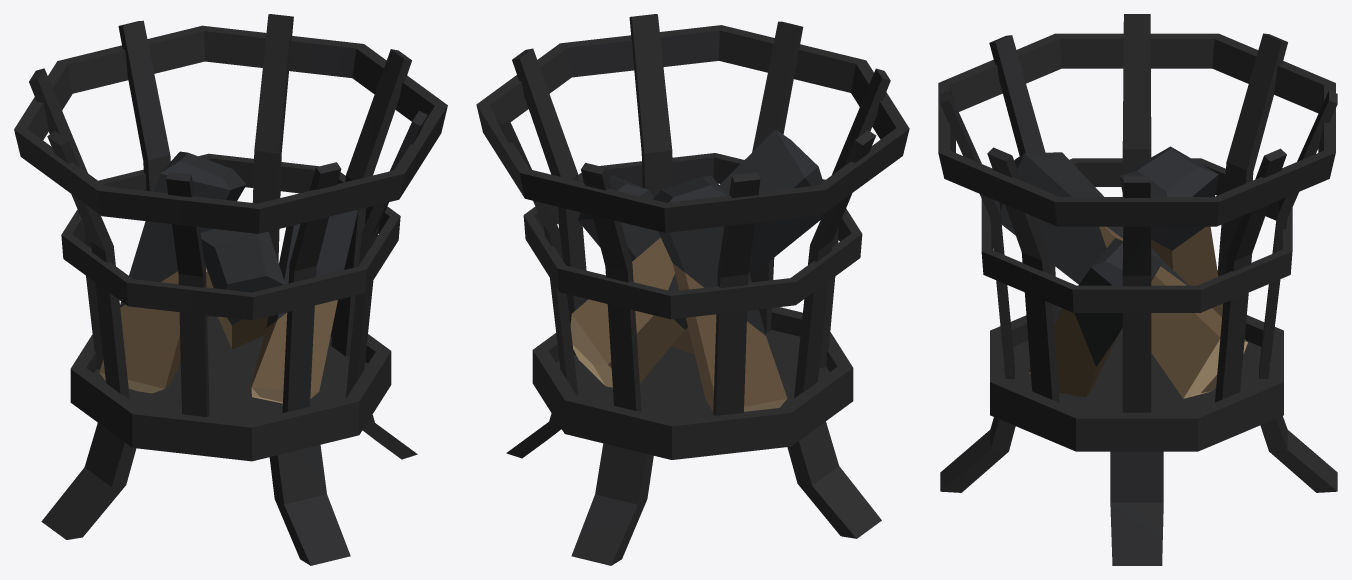
File: brazier.glb
3 views of the same model, side by side, from view 1: azimuth 30°, elevation 25°; view 2: azimuth 150°, elevation 25°; view 3: azimuth 270°, elevation 25° (orthographic).
Visible parts, largest first — view 1: SM_Prop_Camp_Brazier_01, SM_Prop_Camp_Brazier_Wood_01; view 2: SM_Prop_Camp_Brazier_01, SM_Prop_Camp_Brazier_Wood_01; view 3: SM_Prop_Camp_Brazier_01, SM_Prop_Camp_Brazier_Wood_01.
Part boxes in pixels (left/top/right/bottom): SM_Prop_Camp_Brazier_01: left=14, top=14, right=447, bottom=565; SM_Prop_Camp_Brazier_Wood_01: left=99, top=151, right=357, bottom=403; SM_Prop_Camp_Brazier_01: left=476, top=14, right=909, bottom=565; SM_Prop_Camp_Brazier_Wood_01: left=570, top=129, right=823, bottom=411; SM_Prop_Camp_Brazier_01: left=938, top=14, right=1337, bottom=565; SM_Prop_Camp_Brazier_Wood_01: left=999, top=146, right=1247, bottom=398.
Size of the model in its own units: 0.5543 by 0.5934 by 0.554.
1 material, 1 textured.
